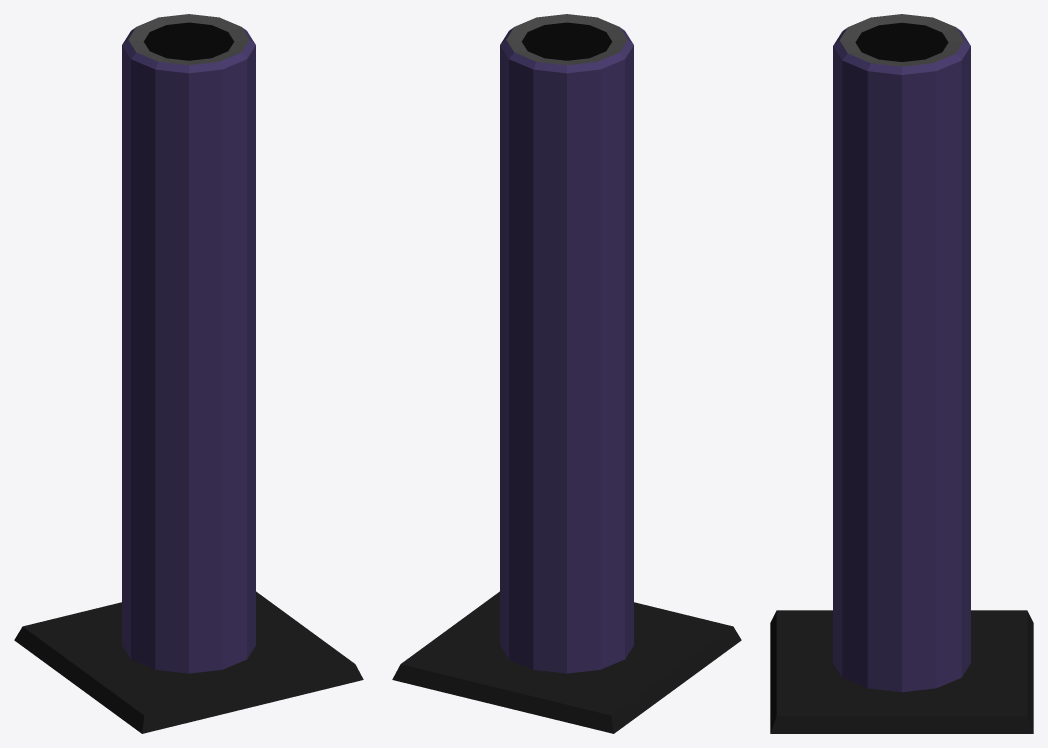
Rendered from PURTube.fbx.
3 renders of one model, left to right at view 1: azimuth 30°, elevation 25°; view 2: azimuth 150°, elevation 25°; view 3: azimuth 270°, elevation 25°, orthographic. The views are drawn at different scales.
Visible parts, largest first — view 1: PreloadedTube_DummyPreloadedTube; view 2: PreloadedTube_DummyPreloadedTube; view 3: PreloadedTube_DummyPreloadedTube.
Part boxes in pixels (x1,y1,x2,y2): PreloadedTube_DummyPreloadedTube: (14, 14, 363, 733); PreloadedTube_DummyPreloadedTube: (392, 14, 741, 733); PreloadedTube_DummyPreloadedTube: (770, 14, 1033, 733).
Bounding box in the file's own units: 19.1 × 51.07 × 19.1.
